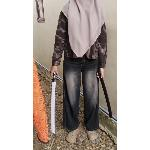Pedang: (49, 69, 60, 135)
